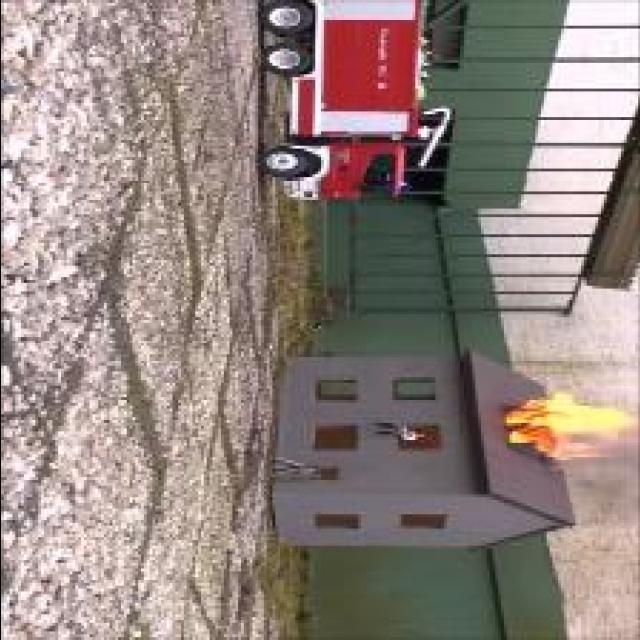Fire: (506, 394, 638, 460)
